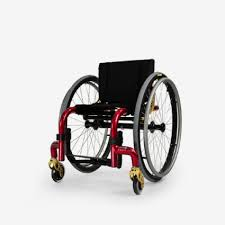wheelchair: (45, 62, 178, 191)
